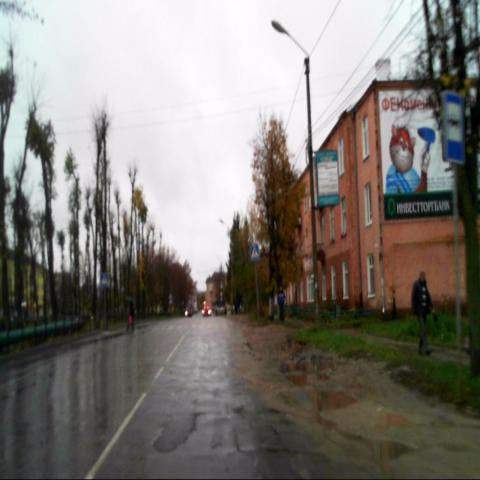5_16: (442, 90, 464, 164)
5_19_1: (250, 244, 259, 260)
